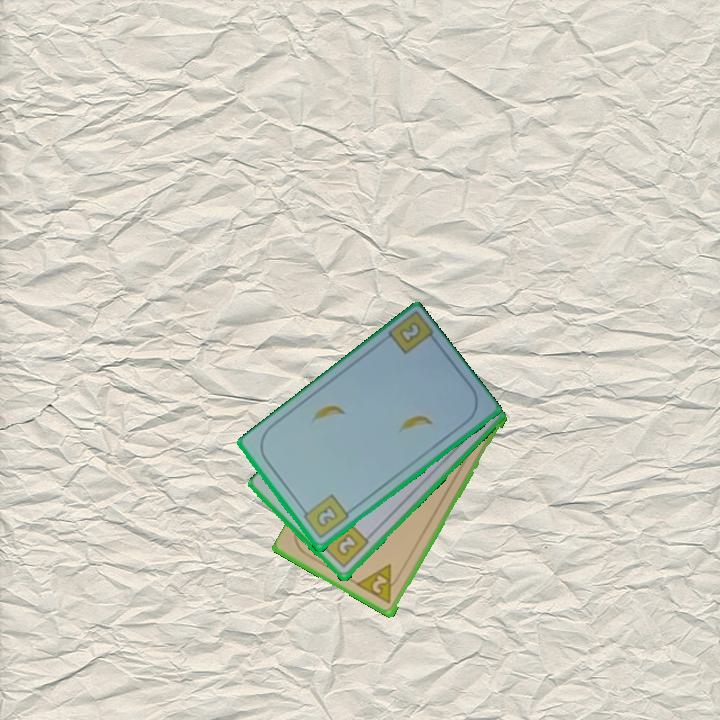2b: (317, 519, 372, 571), (298, 491, 352, 542), (398, 320, 422, 344)
2p: (354, 561, 404, 607)
